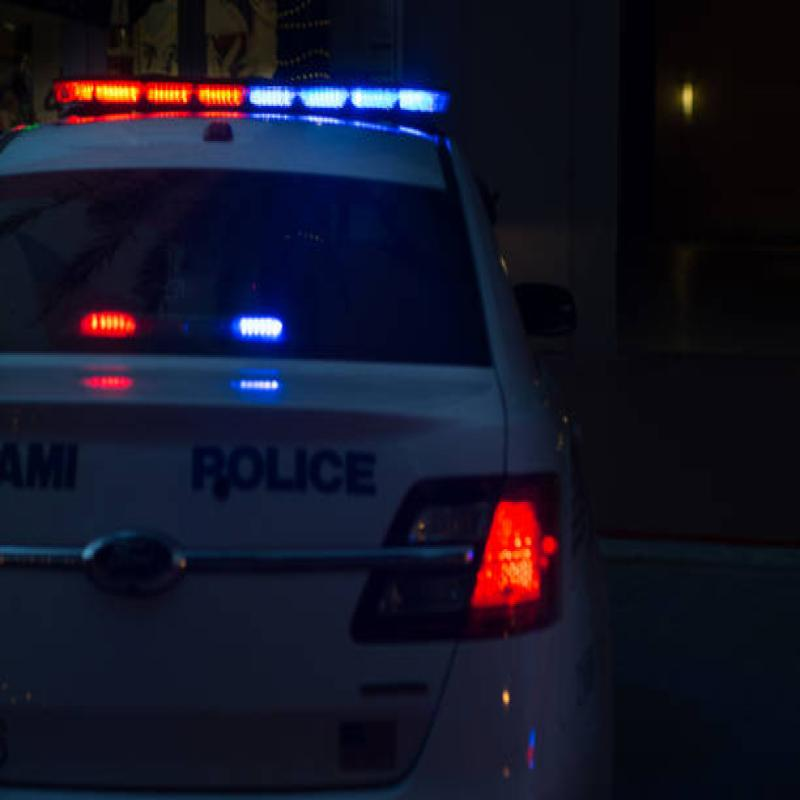AmbulanceSiren: (43, 57, 470, 143)
car: (5, 121, 654, 800)
